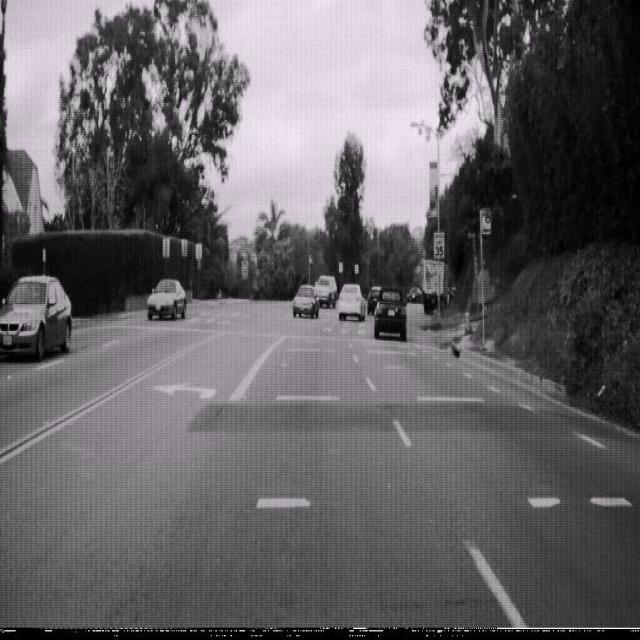speedLimit35: (433, 229, 445, 259)
